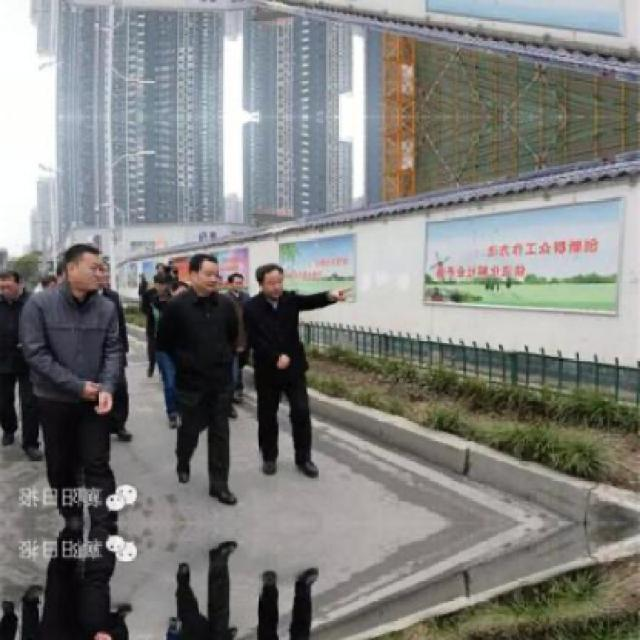sin casco: (24, 231, 128, 315), (238, 256, 294, 316), (197, 255, 255, 308)
